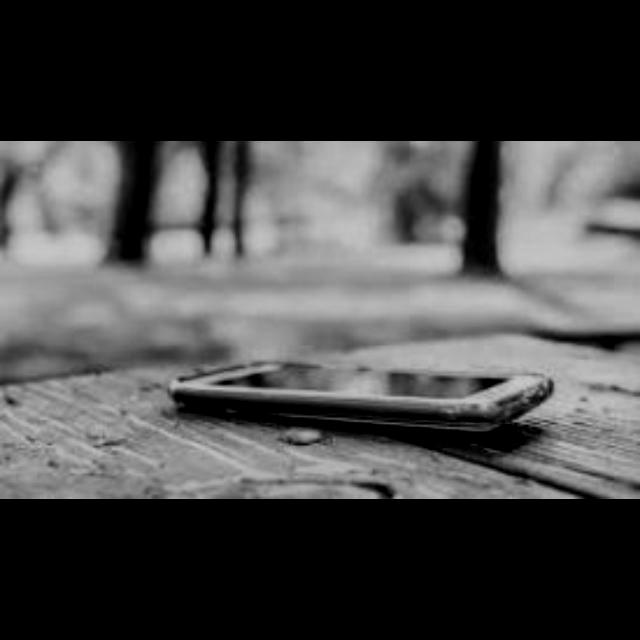fake: (194, 291, 558, 456)
